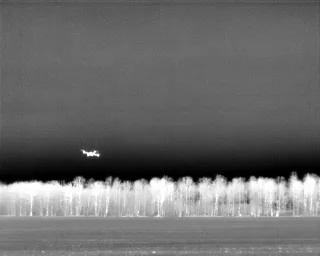DRONE: (77, 145, 104, 162)
